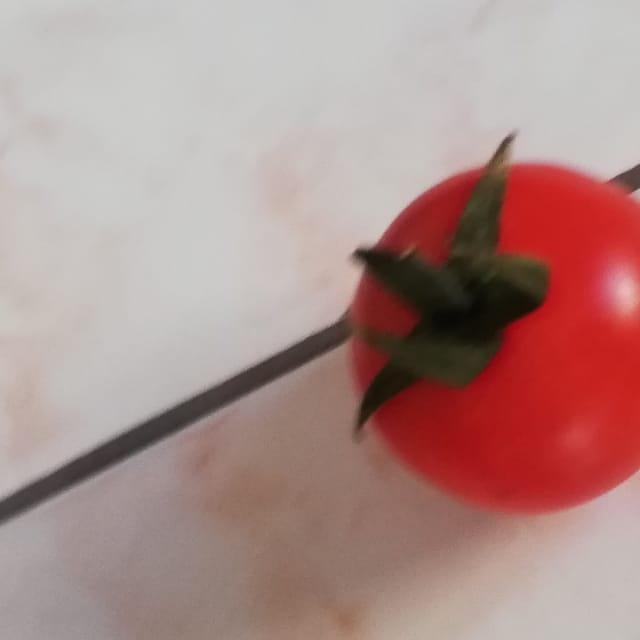tomato: (323, 117, 640, 529)
